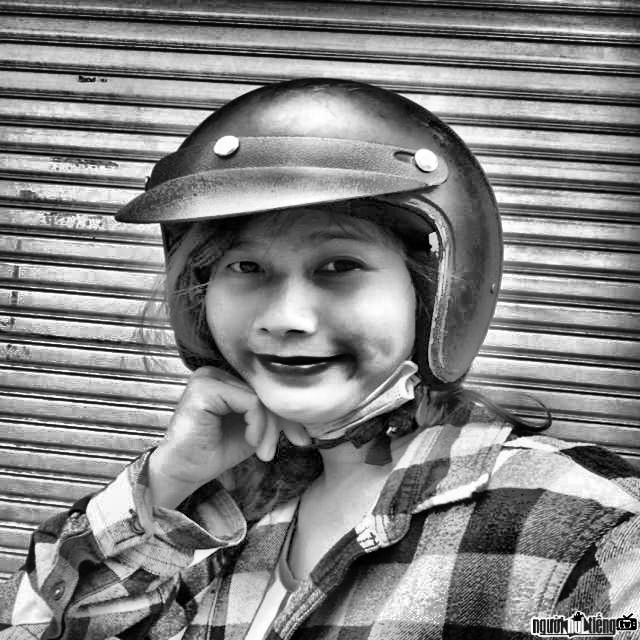Helmet: (104, 67, 516, 456)
